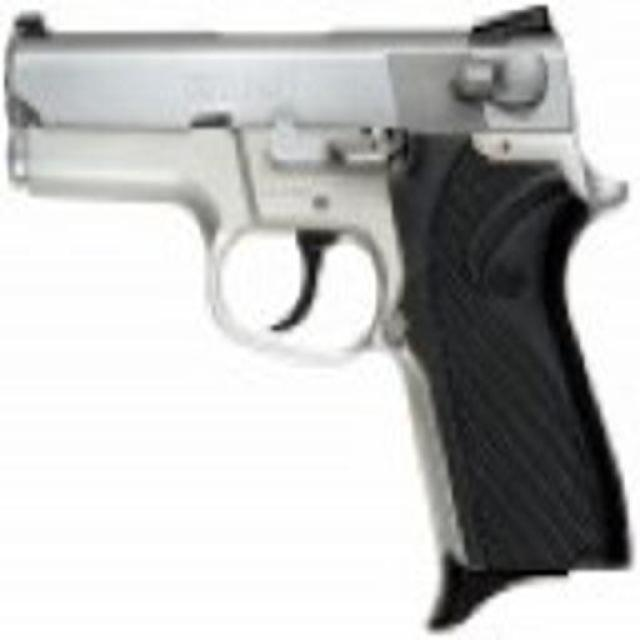pistol: (7, 5, 627, 640)
